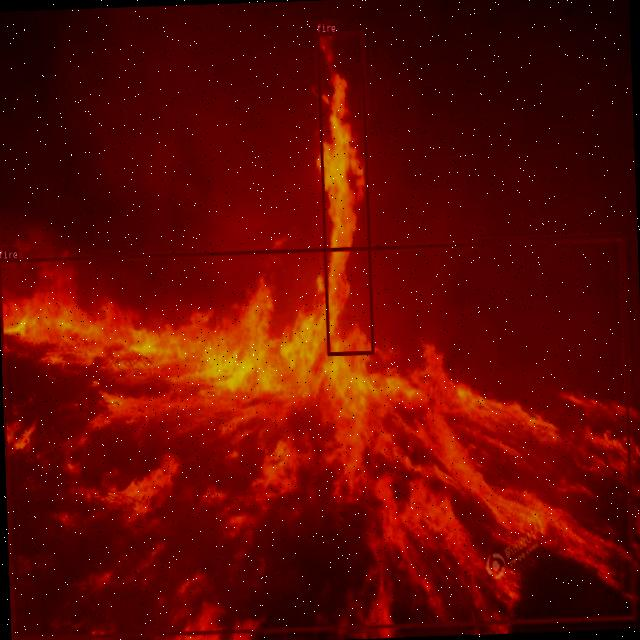fire: (0, 237, 635, 640), (316, 31, 374, 354)
